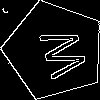W: (29, 25, 89, 83)
